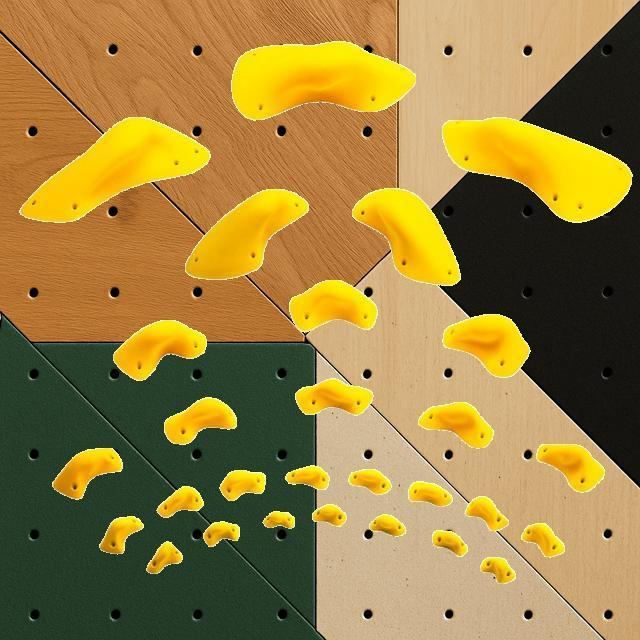Jug: (19, 115, 210, 222), (440, 116, 632, 222), (230, 40, 416, 120), (184, 188, 308, 280), (352, 187, 460, 285), (442, 314, 530, 378), (114, 320, 206, 380), (289, 280, 377, 332), (54, 448, 120, 498), (538, 444, 604, 492), (421, 403, 492, 447), (165, 400, 233, 444), (298, 380, 370, 416), (100, 516, 142, 554), (466, 496, 508, 530), (158, 487, 202, 518), (522, 524, 564, 556), (220, 470, 264, 500), (350, 468, 390, 494), (148, 542, 182, 572), (409, 482, 451, 506), (286, 466, 328, 489), (481, 557, 515, 583), (432, 531, 468, 555), (204, 522, 238, 546), (312, 504, 346, 526), (370, 516, 406, 536), (264, 512, 294, 528)
